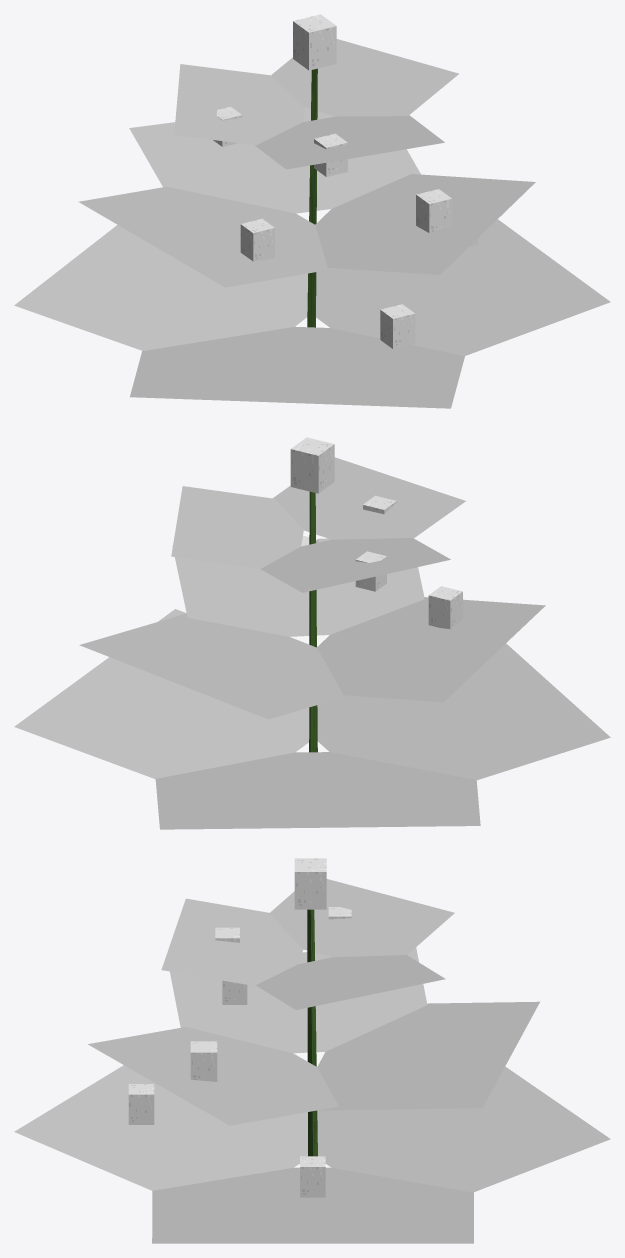
Rendered from plant_2_0_2_lod.obj.
The picture shows the model from 3 angles, top to bottom: view 1: azimuth 30°, elevation 25°; view 2: azimuth 150°, elevation 25°; view 3: azimuth 270°, elevation 25°; orthographic projection.
Parts seen in each view (by area): view 1: model; view 2: model; view 3: model.
Part boxes in pixels (bbox=[...]): model: bbox=[14, 14, 610, 408]; model: bbox=[14, 437, 610, 829]; model: bbox=[14, 858, 610, 1243].
Size of the model in its own units: 1.12 by 0.8257 by 1.26.
